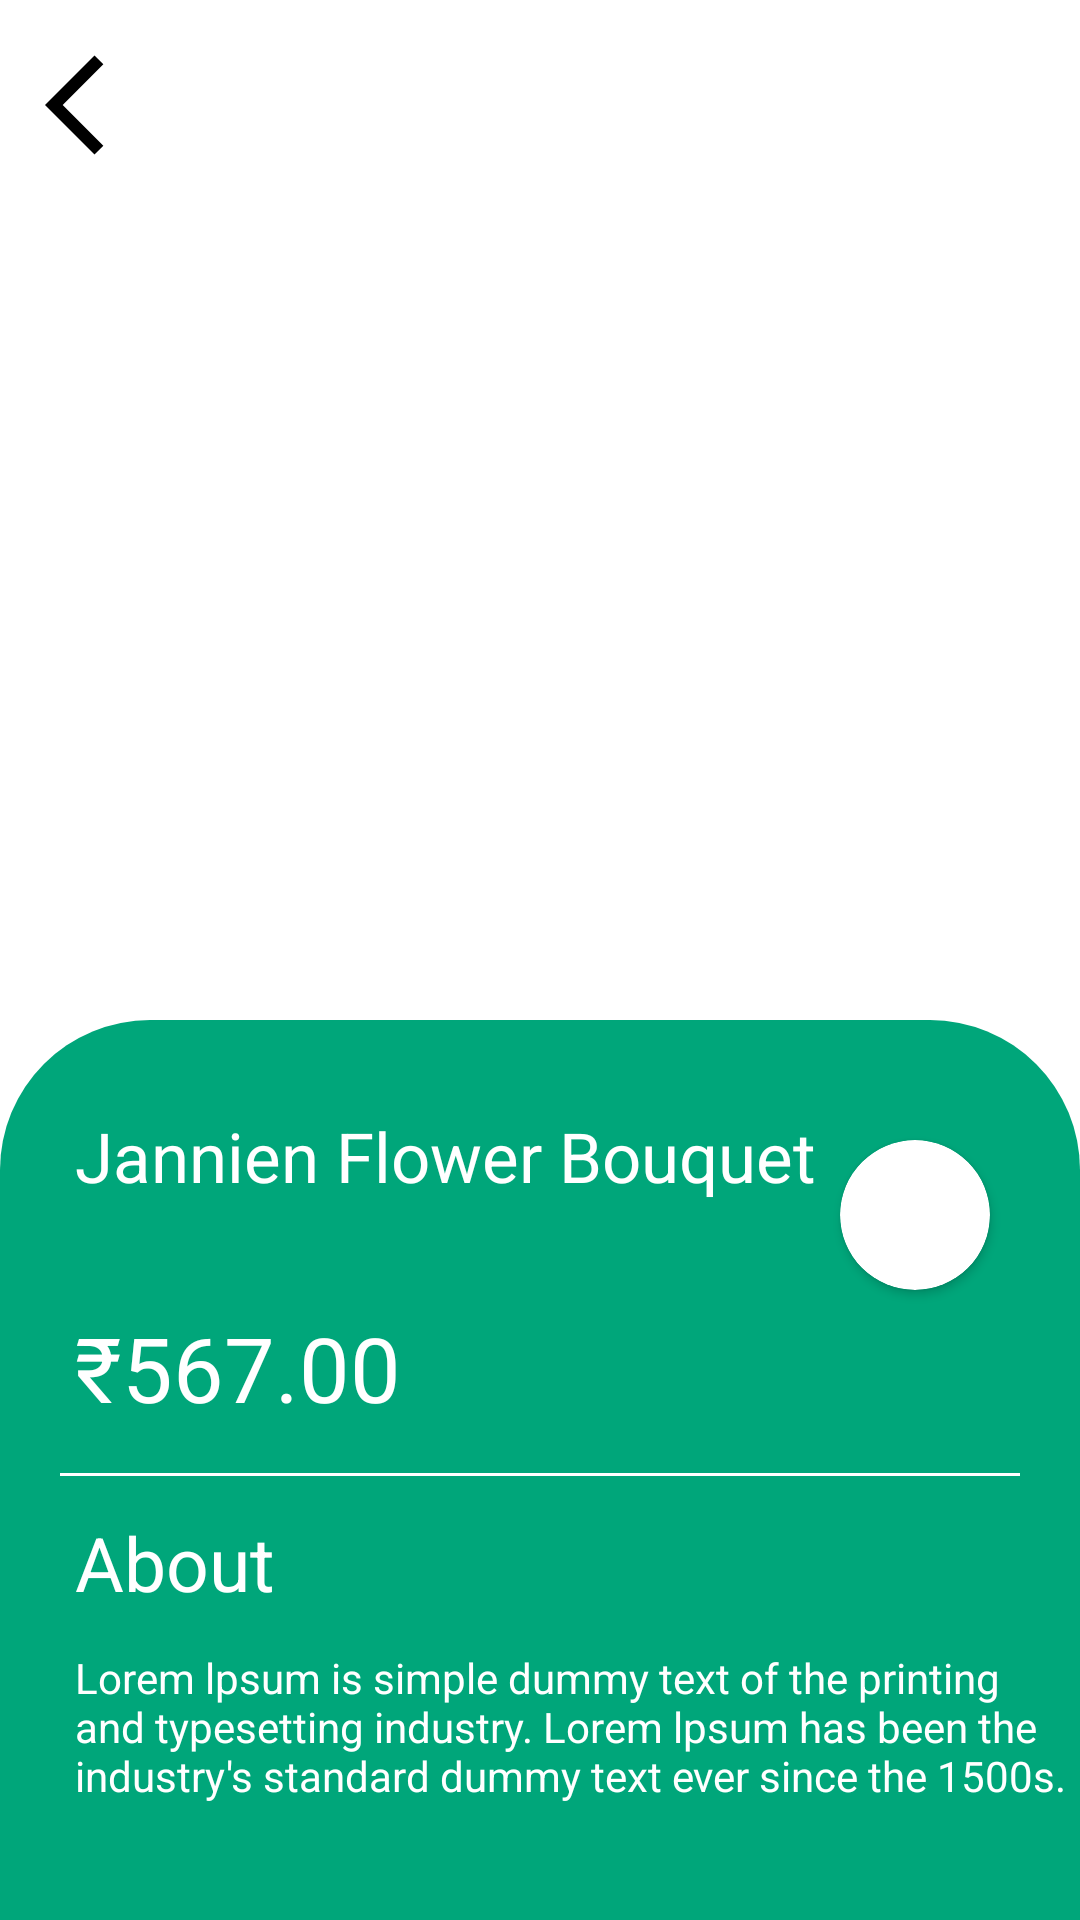

Icons on this 1080*1920 Android screen, each with the point to tap as [x,y]:
back: [74,105]
